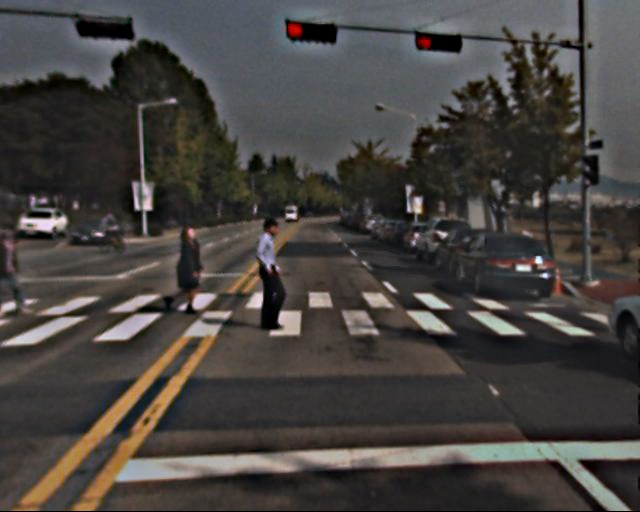person: (246, 219, 295, 333), (168, 224, 206, 316)
